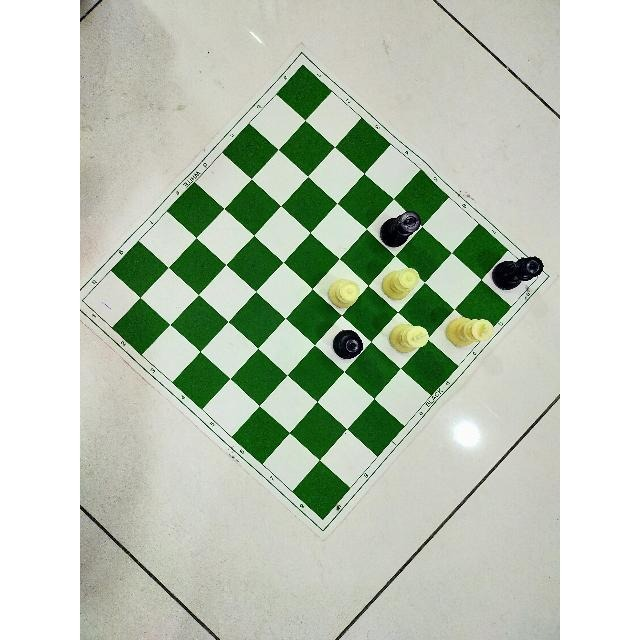black-king: (378, 209, 422, 248)
black-queen: (491, 252, 544, 290), (331, 330, 365, 360)
white-king: (445, 315, 495, 347), (388, 322, 430, 353)
white-queen: (379, 267, 421, 301), (327, 279, 360, 308)
